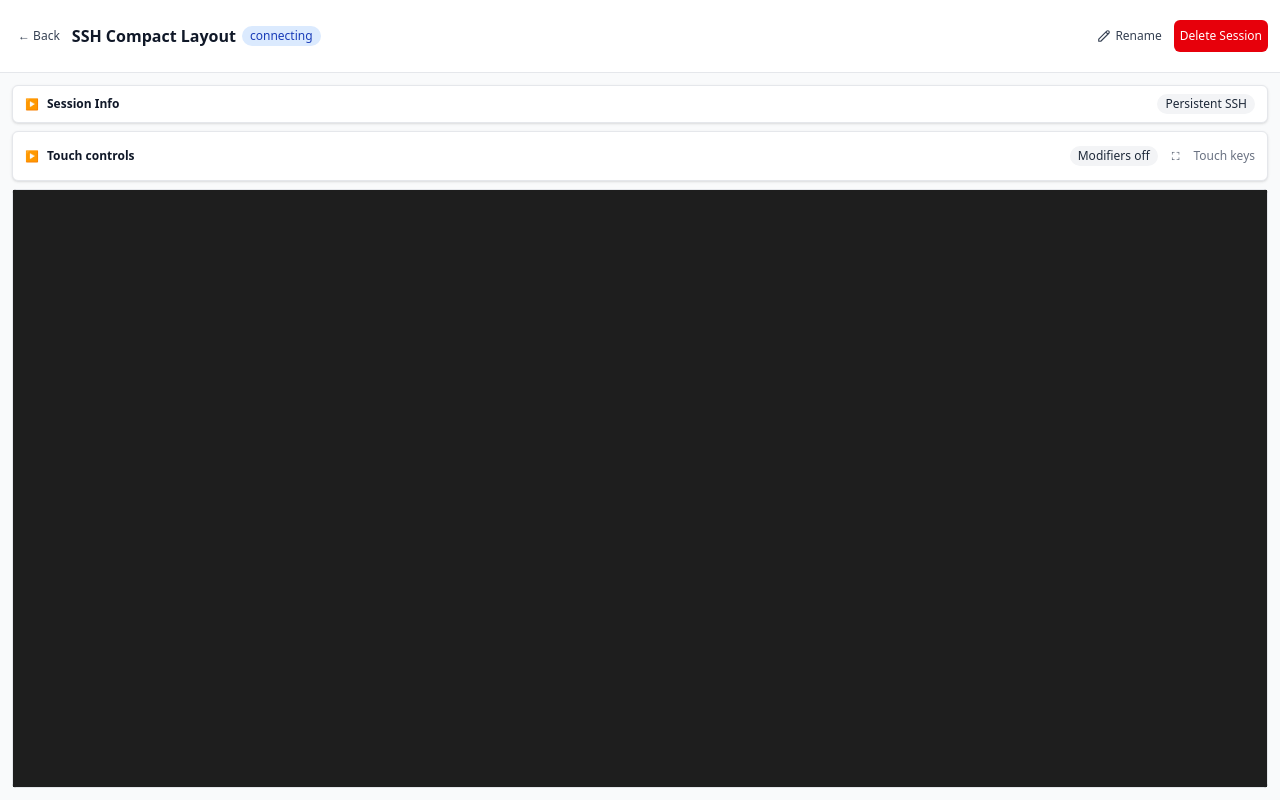
Test: SshSessionDetails › starts with compact collapsed bars and no redundant terminal action buttons
Check: the heading "SSH Compact Layout" is shown, box [72,24,236,48]
Check: the text "Workspace ID" is not shown
Click the text "Session Info".
click(83, 104)  # box [47,96,119,112]
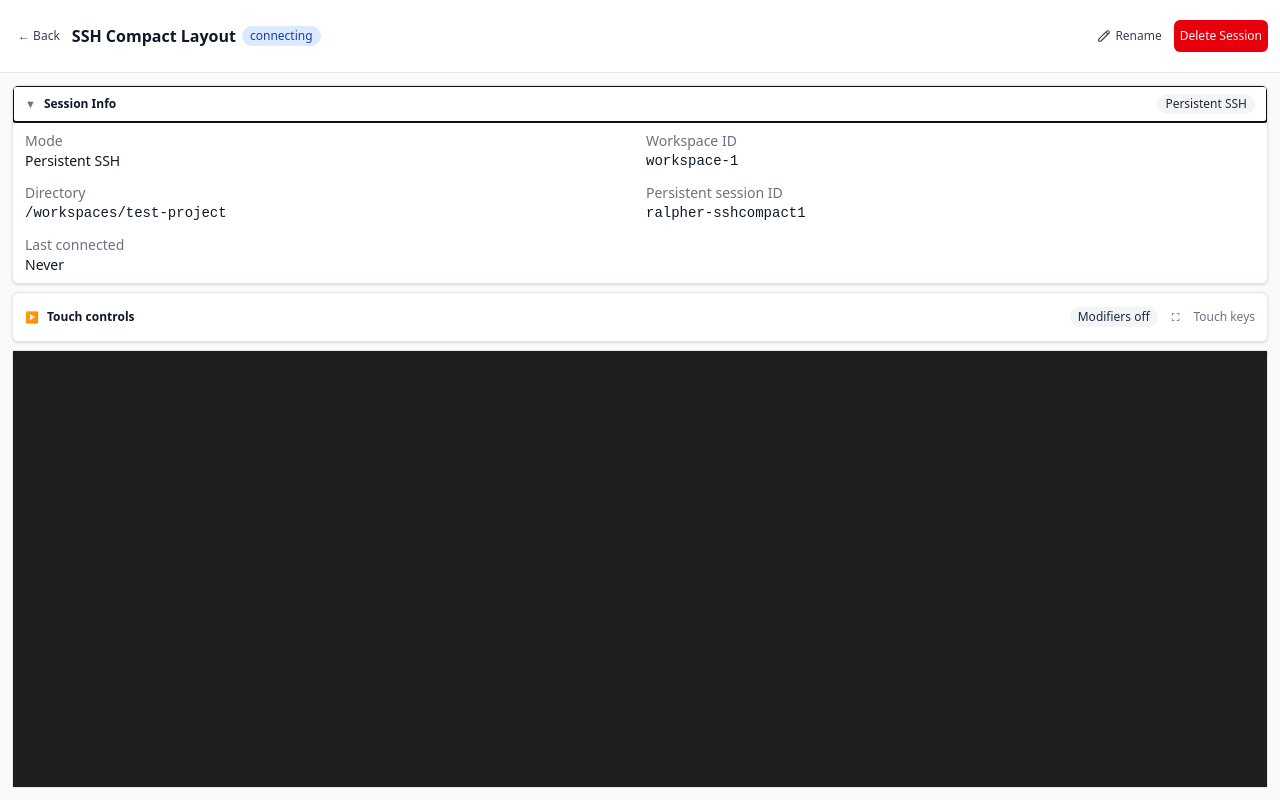
Check: the text "Workspace ID" is shown, box [646,131,737,150]
Click the text "Touch controls".
click(91, 317)  # box [47,309,134,325]
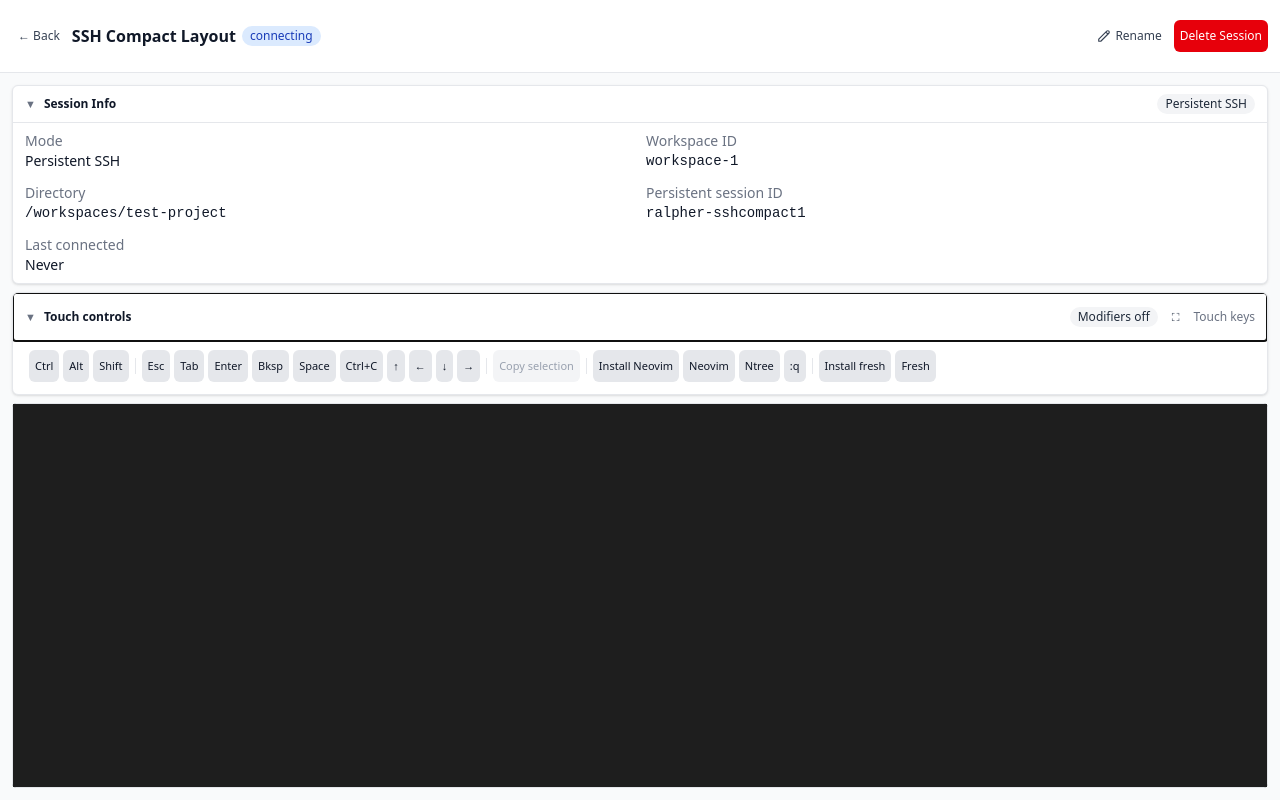
Check: the button "Ctrl" is shown, box [29,350,59,382]
